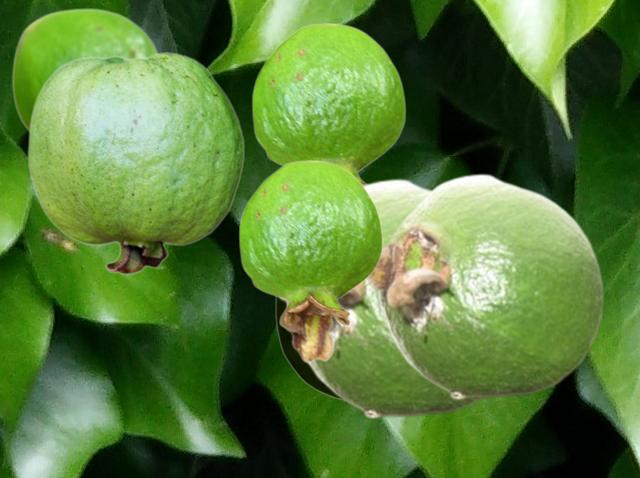guava: (365, 172, 605, 399), (277, 177, 484, 418), (27, 52, 244, 274), (238, 159, 382, 362), (251, 22, 405, 183), (11, 7, 158, 131), (275, 298, 337, 399)
